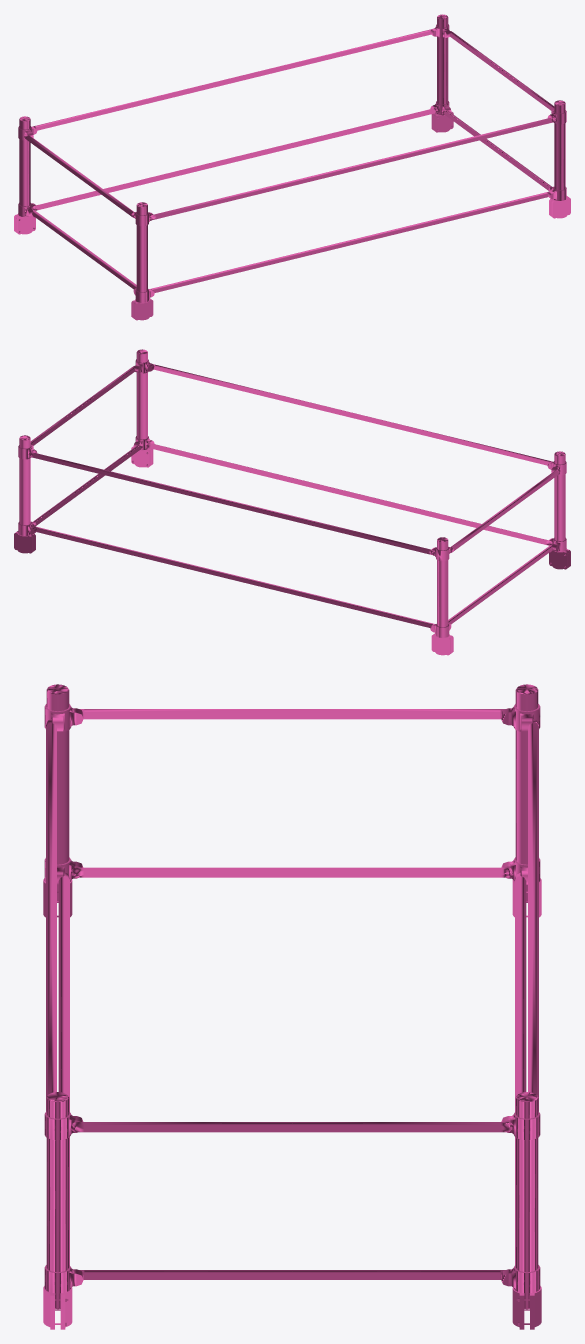
The model's file is uee_lawless_prop_scaffold_top_01.glb.
The picture shows the model from 3 angles, top to bottom: view 1: azimuth 30°, elevation 25°; view 2: azimuth 150°, elevation 25°; view 3: azimuth 270°, elevation 25°; orthographic projection. The views are drawn at different scales.
Bounding box in the file's own units: 4.04 × 1 × 2.
